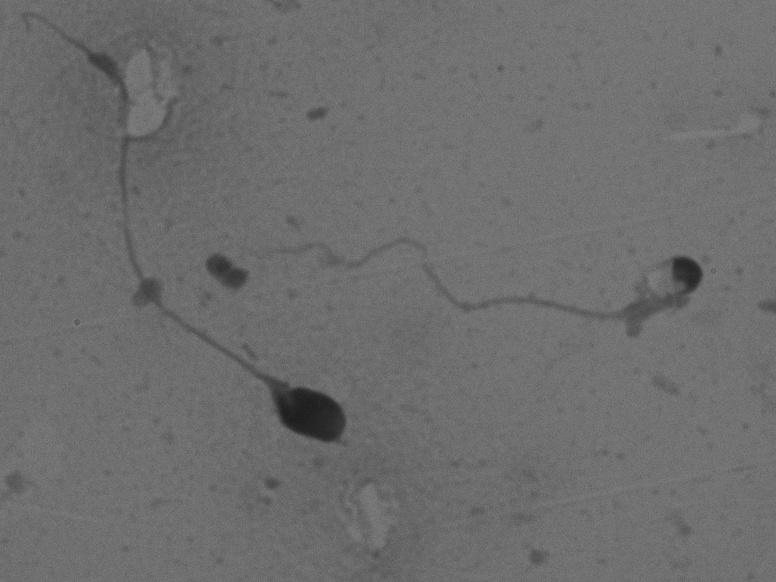Abnormal: (13, 8, 378, 460), (257, 194, 740, 345)
